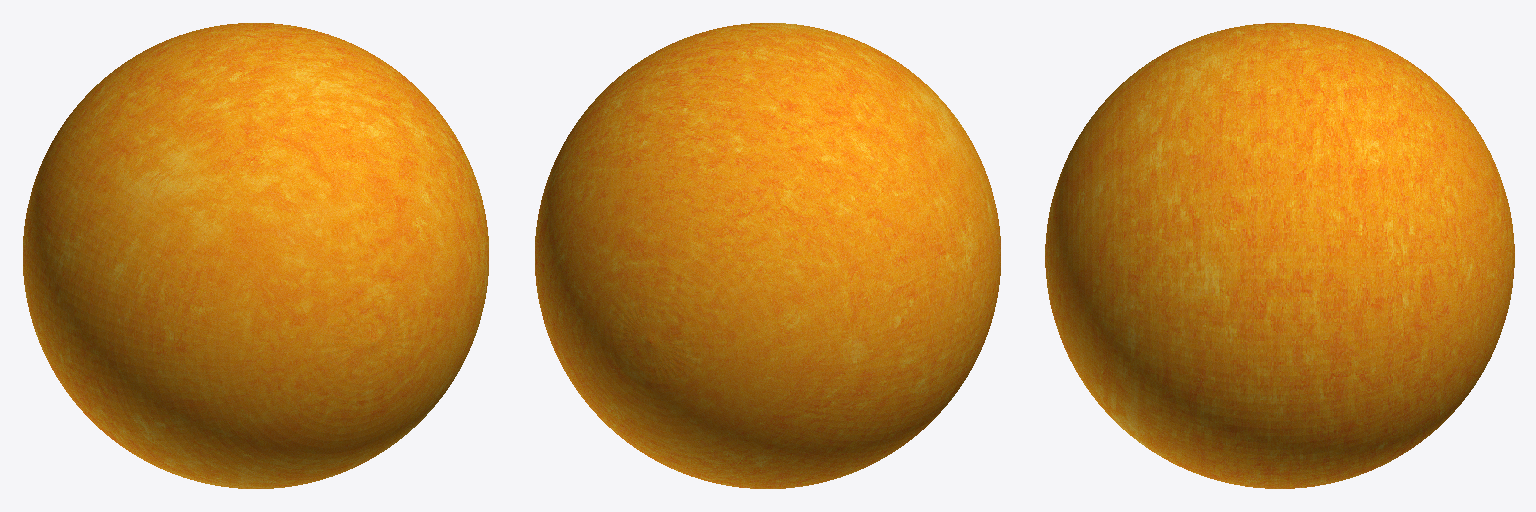
3 views of the same model, side by side, from view 1: azimuth 30°, elevation 25°; view 2: azimuth 150°, elevation 25°; view 3: azimuth 270°, elevation 25° (orthographic).
Visible parts, largest first — view 1: 13913_Sun_v2_l3; view 2: 13913_Sun_v2_l3; view 3: 13913_Sun_v2_l3.
Boxes of the visible parts, box(x1,y1,x2,y2) form: 13913_Sun_v2_l3: box(23, 23, 488, 488); 13913_Sun_v2_l3: box(535, 23, 1000, 488); 13913_Sun_v2_l3: box(1045, 23, 1514, 488).
Size of the model in its own units: 8.43 by 8.43 by 8.52.
Materials: 1 (1 with a texture image).